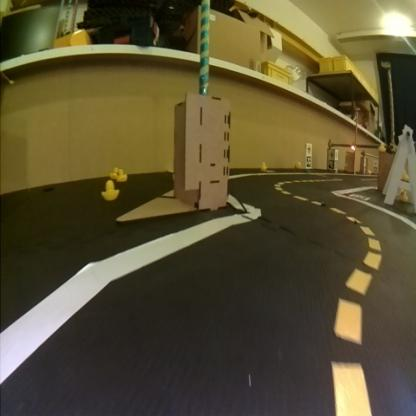Duckie: (103, 180, 119, 199), (118, 169, 128, 181), (261, 161, 267, 168), (114, 166, 119, 174), (297, 161, 302, 169)
Intersection sign: (308, 142, 312, 154), (330, 149, 335, 157)
QR code: (350, 192, 370, 200), (306, 156, 312, 166), (329, 161, 335, 167)
